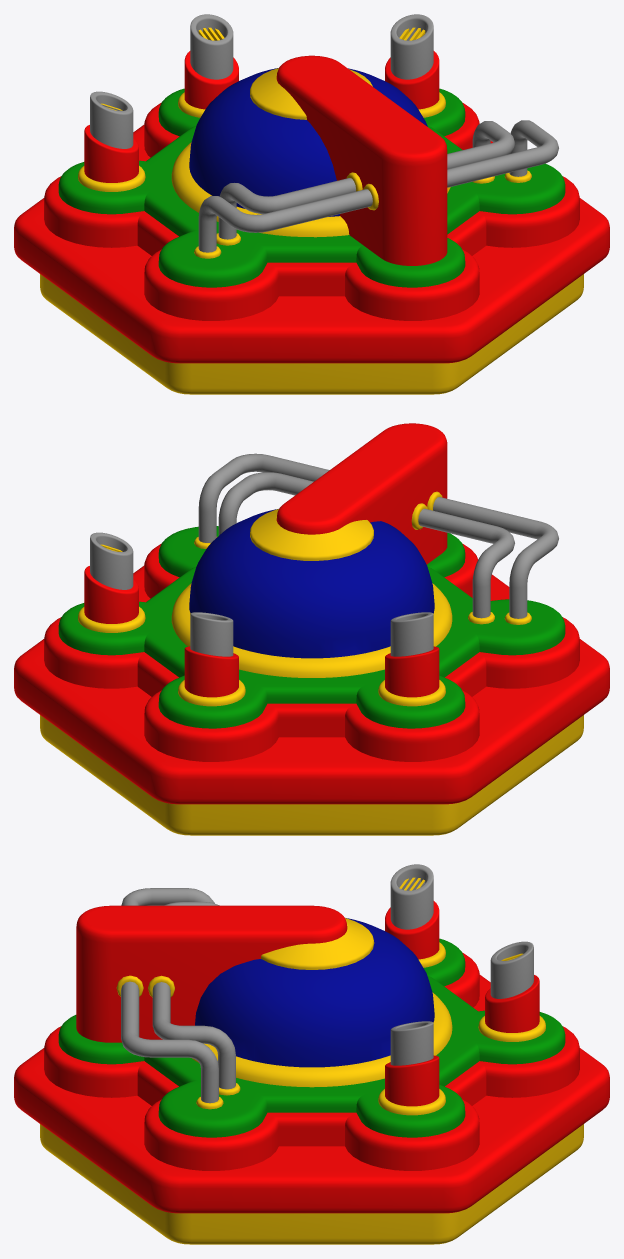
Rendered from Space_Factory.FBX.
3 views of the same model, one above another, from view 1: azimuth 30°, elevation 25°; view 2: azimuth 150°, elevation 25°; view 3: azimuth 270°, elevation 25° (orthographic).
Parts seen in each view (by area): view 1: Space_Factory, Space_Factory_Platform; view 2: Space_Factory, Space_Factory_Platform; view 3: Space_Factory, Space_Factory_Platform.
Boxes of the visible parts, <box> form: Space_Factory: <box>44,14,579,320</box>; Space_Factory_Platform: <box>14,125,609,394</box>; Space_Factory: <box>44,423,579,761</box>; Space_Factory_Platform: <box>14,565,609,835</box>; Space_Factory: <box>44,864,579,1170</box>; Space_Factory_Platform: <box>14,975,609,1244</box>.
Bounding box in the file's own units: 7262 × 3474 × 8249.
